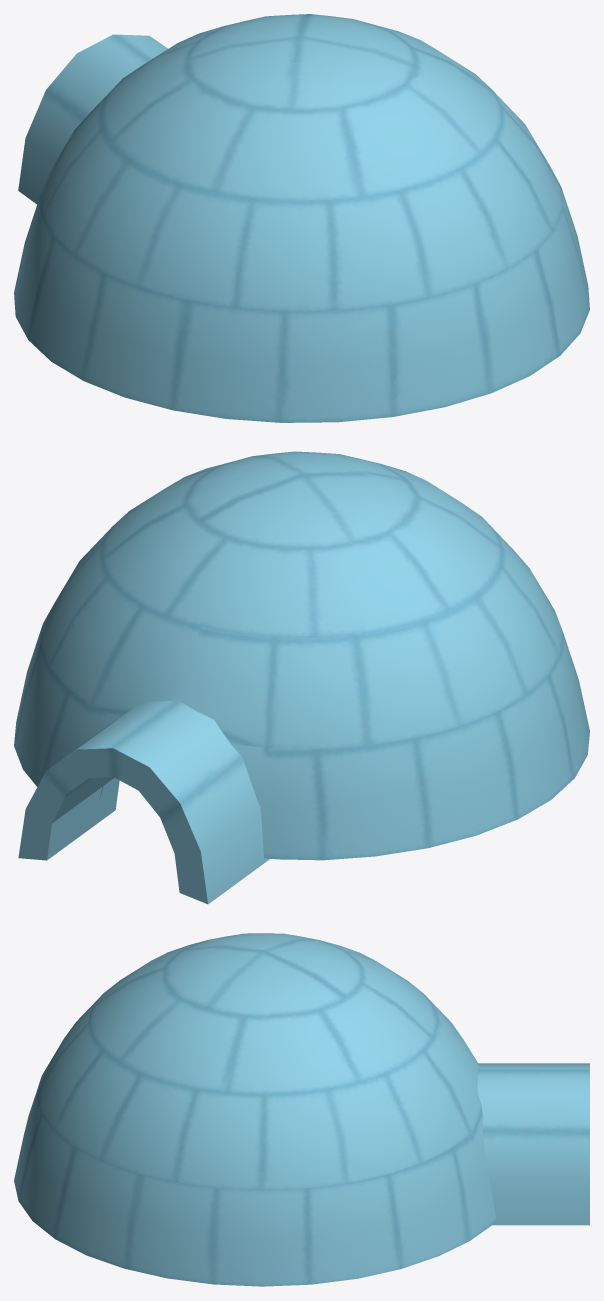
File: Igloo.fbx
The picture shows the model from 3 angles, top to bottom: view 1: azimuth 30°, elevation 25°; view 2: azimuth 150°, elevation 25°; view 3: azimuth 270°, elevation 25°; orthographic projection. The views are drawn at different scales.
Parts seen in each view (by area): view 1: Igloo; view 2: Igloo; view 3: Igloo.
Boxes of the visible parts, bbox=[...] form: Igloo: bbox=[14, 14, 589, 422]; Igloo: bbox=[14, 451, 589, 904]; Igloo: bbox=[14, 933, 589, 1286].
Bounding box in the file's own units: 2.94 × 1.51 × 3.4.
1 material, 1 textured.
